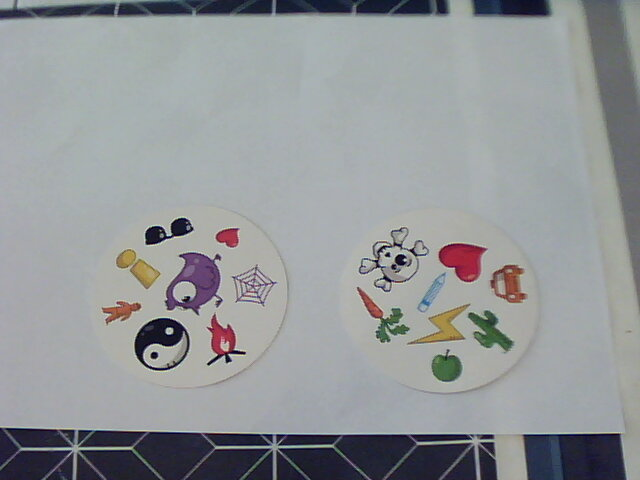bonhomme: (99, 297, 143, 328)
cactus: (464, 307, 516, 353)
carotte: (353, 284, 408, 345)
coeur: (437, 239, 489, 287), (209, 225, 244, 248)
crayon: (418, 271, 450, 311)
eclair: (409, 301, 472, 348)
feu: (203, 313, 247, 366)
lunette: (141, 216, 199, 248)
oiseau: (163, 252, 226, 316)
point_exclamation: (113, 249, 162, 293)
pomme: (427, 347, 463, 382)
tete_mort: (357, 226, 428, 293)
toile: (229, 262, 277, 309)
voiture: (484, 259, 529, 305)
ying_yang: (132, 317, 192, 373)
